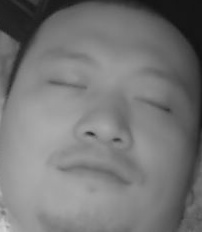blink: (134, 92, 174, 118), (44, 73, 86, 97)
mouth: (58, 150, 130, 192)
